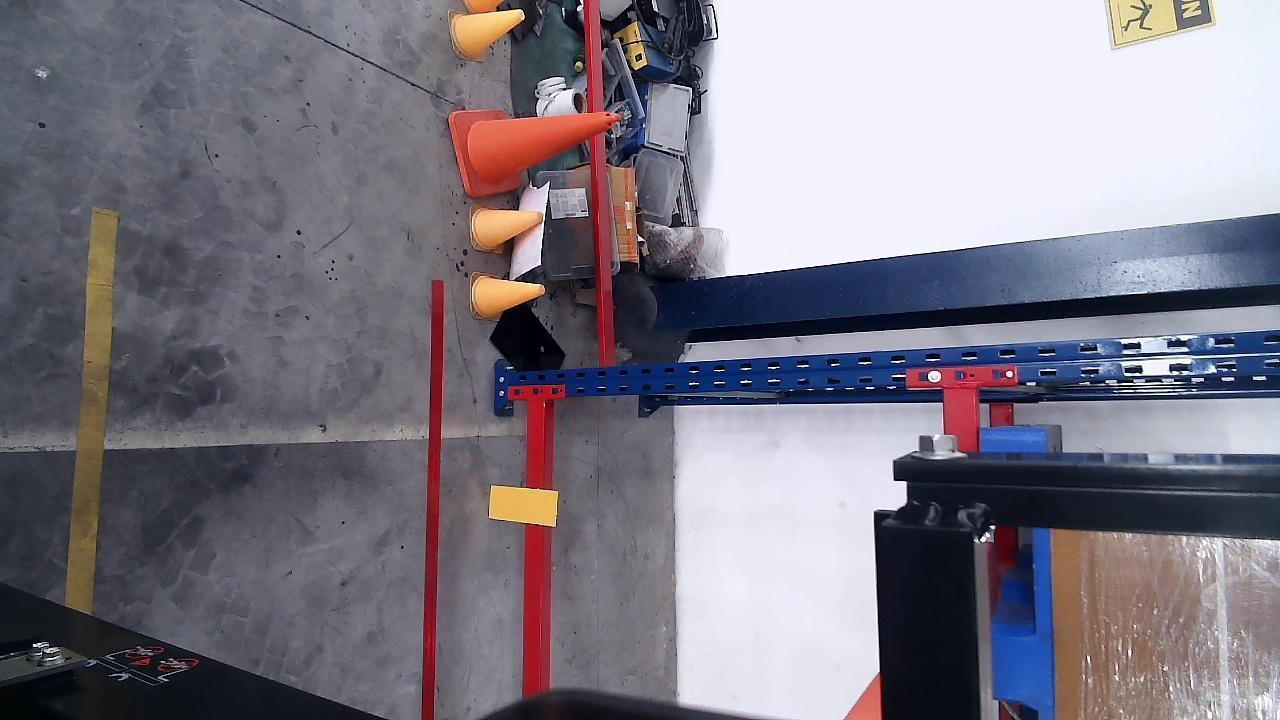red_line: (423, 278, 444, 720)
yellow_line: (65, 207, 118, 616)
